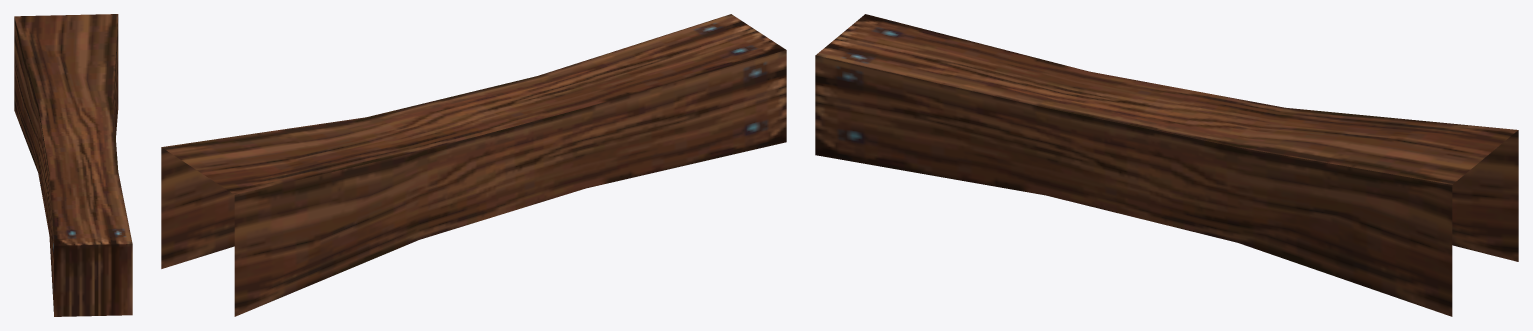
Rendered from OVERHILL_A_01_POST31.fbx.
3 views of the same model, side by side, from view 1: azimuth 30°, elevation 25°; view 2: azimuth 150°, elevation 25°; view 3: azimuth 270°, elevation 25° (orthographic). The views are drawn at different scales.
Visible parts, largest first — view 1: OVERHILL_A_01_POST31; view 2: OVERHILL_A_01_POST31; view 3: OVERHILL_A_01_POST31.
Boxes of the visible parts, x1=… form: OVERHILL_A_01_POST31: x1=14, y1=14, x2=132, y2=316; OVERHILL_A_01_POST31: x1=161, y1=14, x2=786, y2=316; OVERHILL_A_01_POST31: x1=815, y1=14, x2=1518, y2=316.
Bounding box in the file's own units: 13053 × 4299 × 20734.
1 material, 1 textured.
